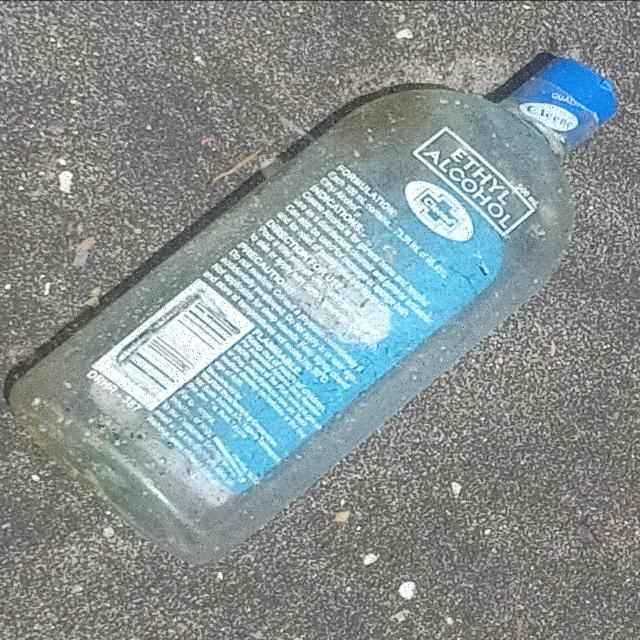plastic_waste: (8, 52, 625, 568)
